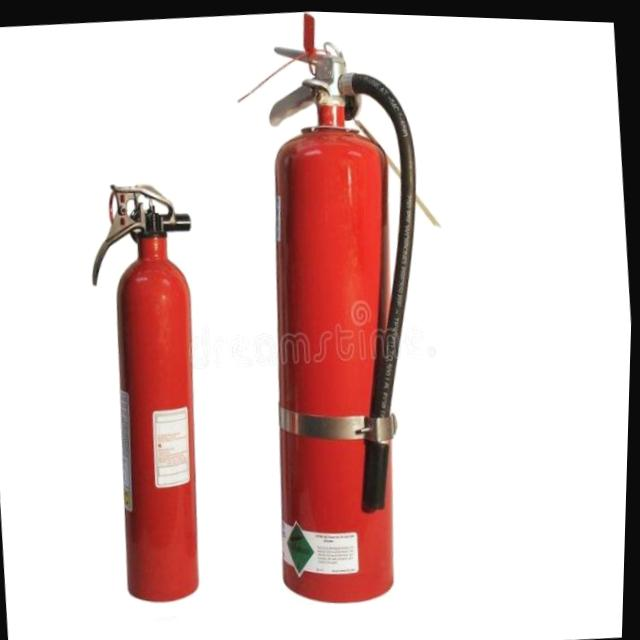FireExtinguisher: (230, 7, 462, 612), (69, 170, 230, 609)
